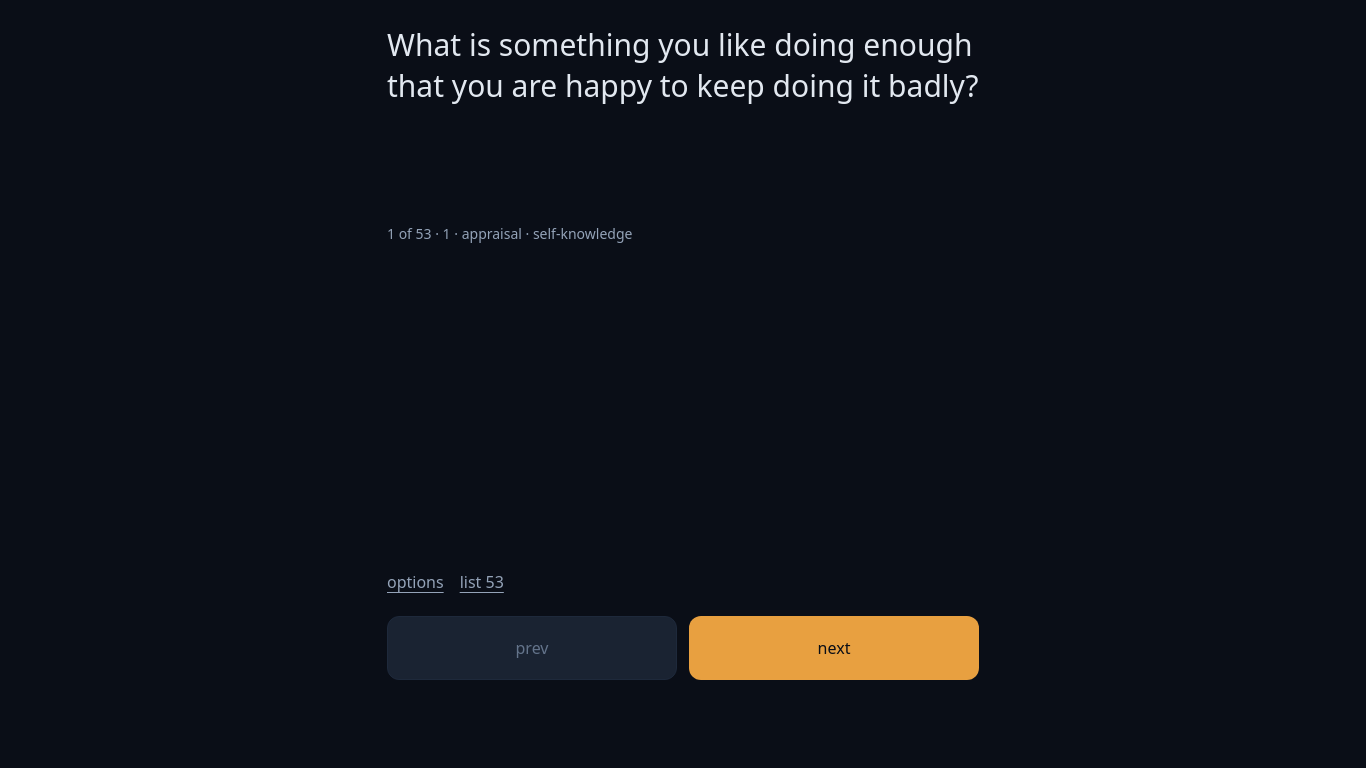
Test: QuestionsClient › shows Nothing matches with both steps disabled while list 0 remains enabled
Click the button "options". click: coordinates (415, 582)
box: [387,560,444,604]
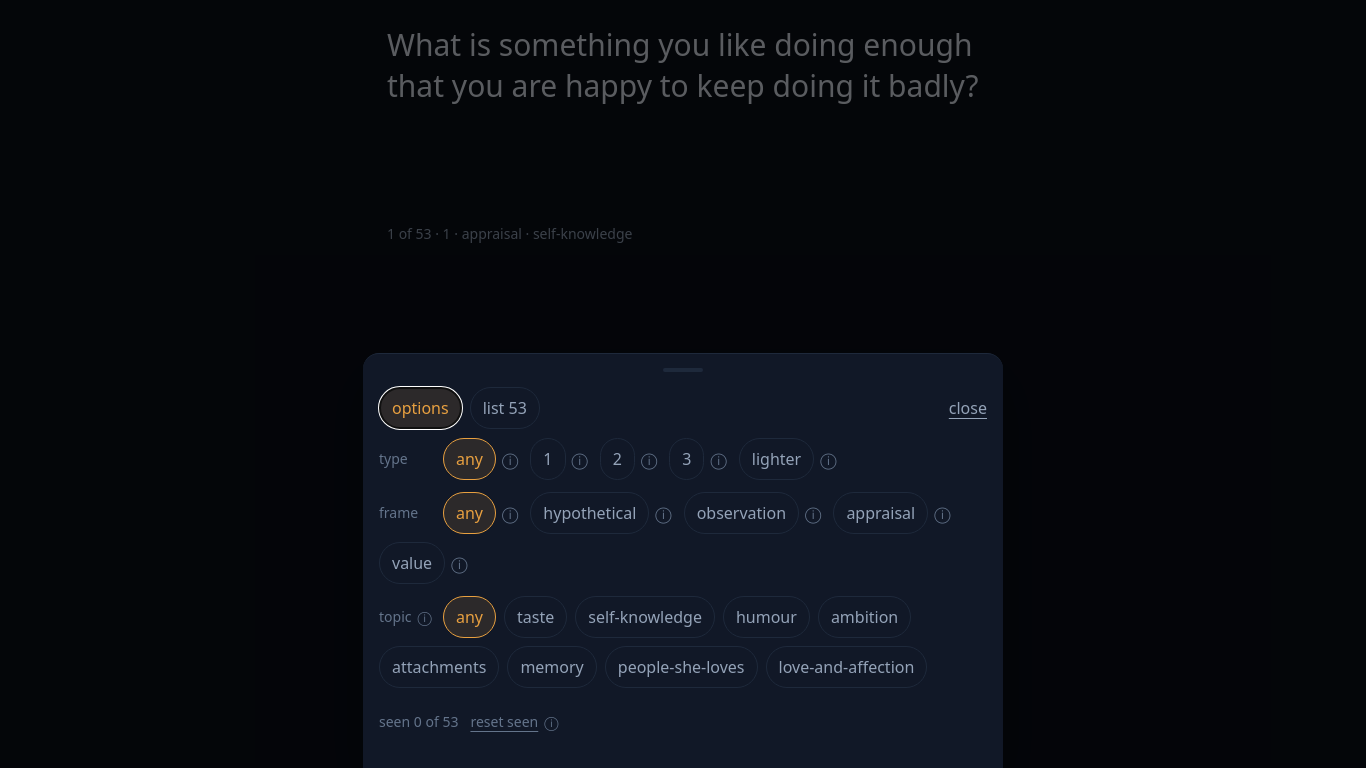
Click the button "lighter". click: coordinates (776, 459)
box: [739,438,814,480]
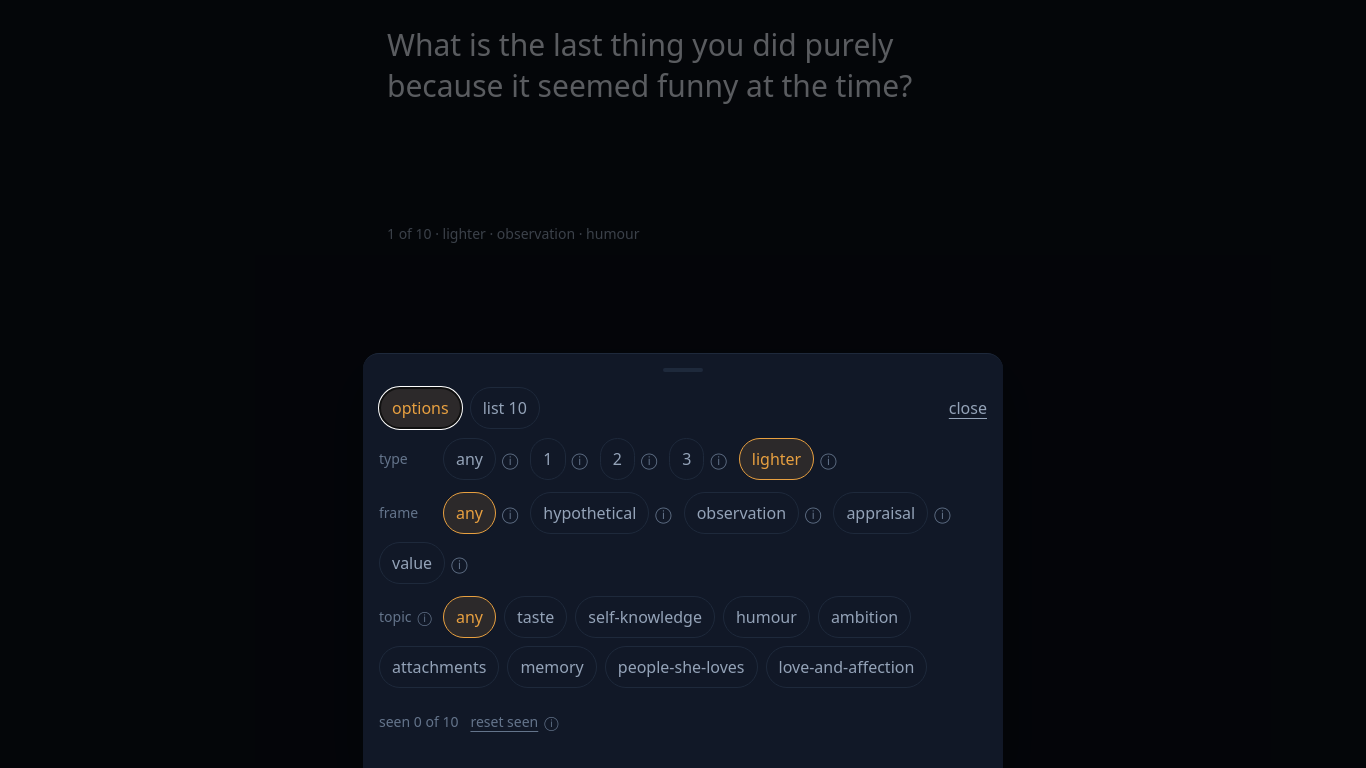
Click the button "value". click: coordinates (412, 563)
box: [379,542,445,584]
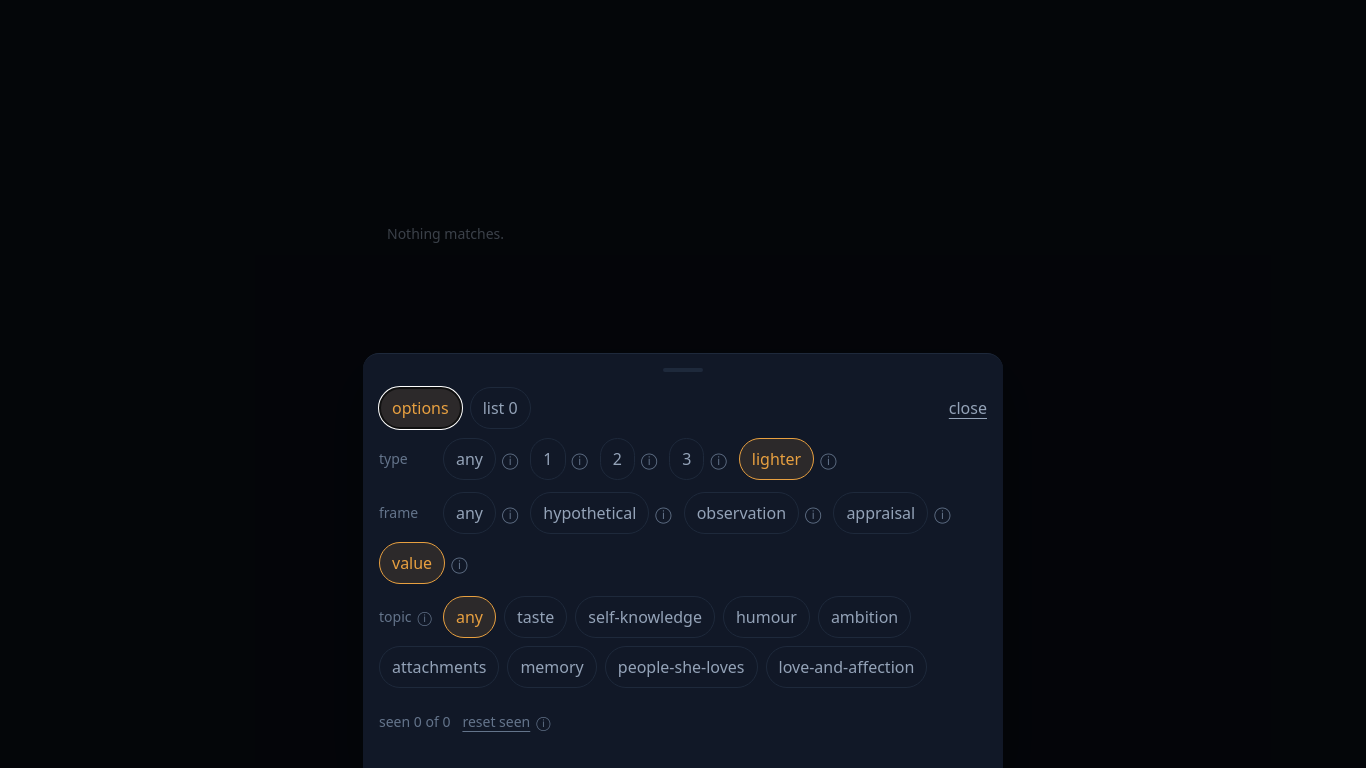
Expected: the button "prev" is disabled, [387,616,677,680]
Expected: the text "Nothing matches." is shown, [387,224,504,243]
